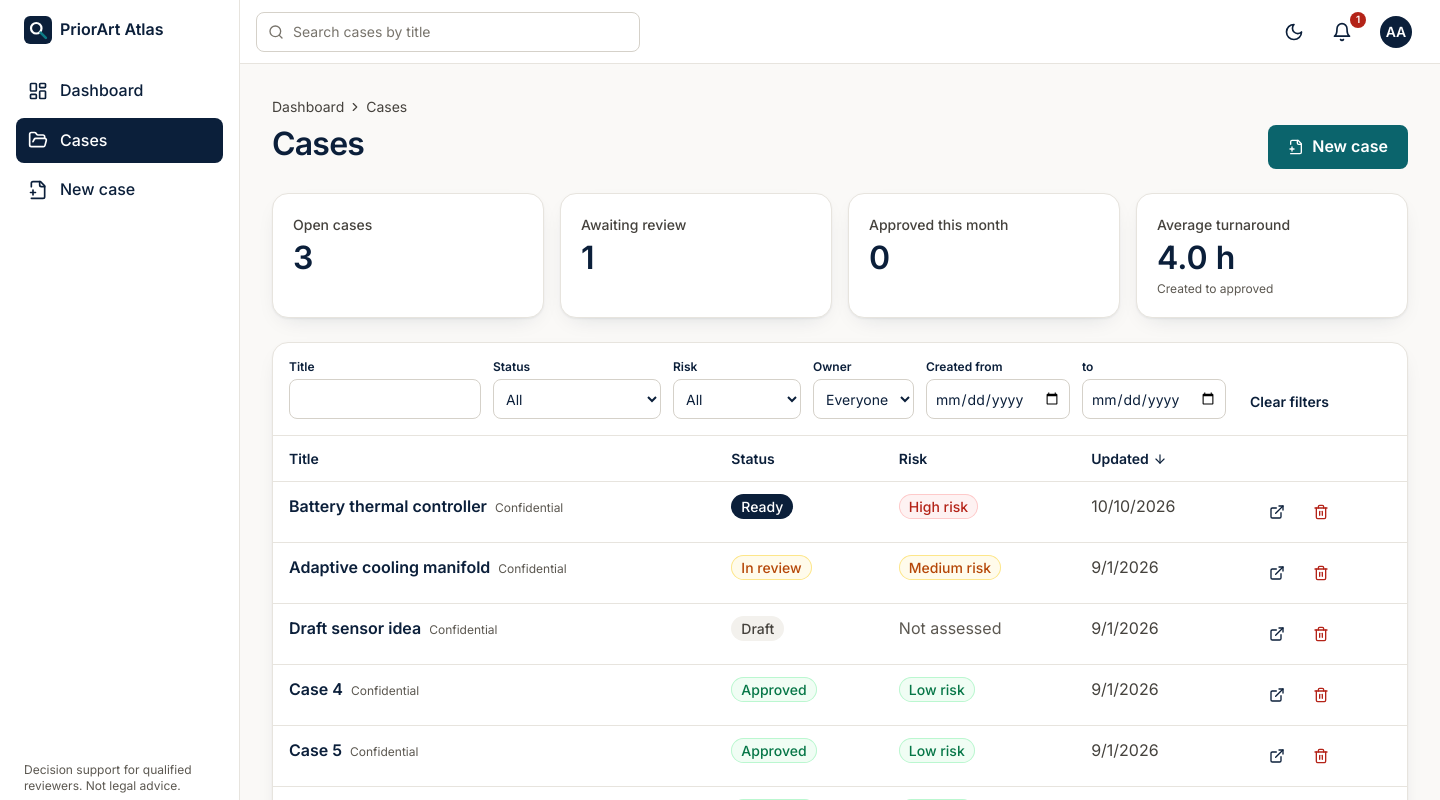
dashboard › sorts by a column and pages through the list
What coordinates should you click on to do the following:
click the button "Title"
I would click on:
 (304, 459)
Its box is x1=289 y1=448 x2=319 y2=469.
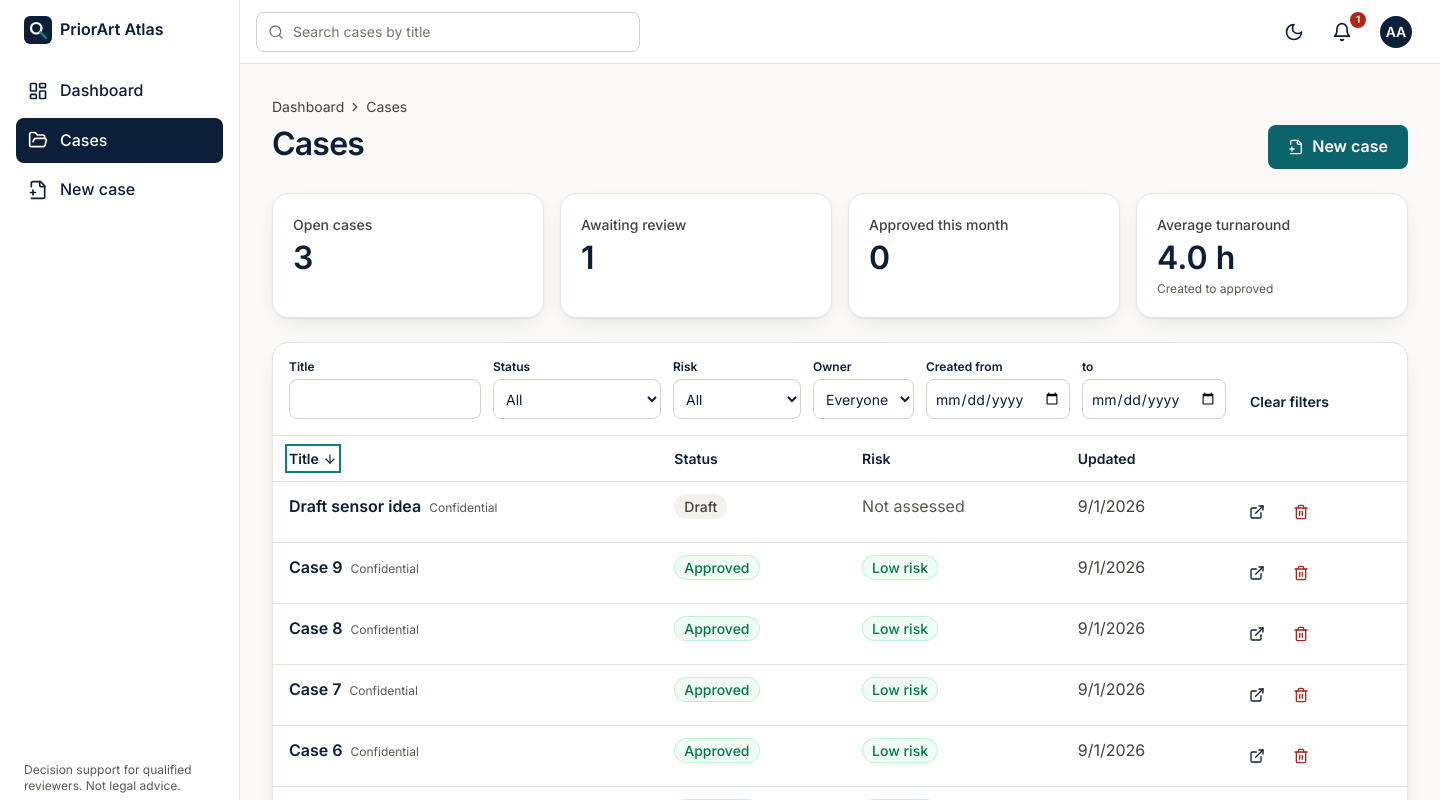
What coordinates should you click on to do the following:
click the button "Title"
I would click on:
 (313, 459)
Its box is x1=289 y1=448 x2=337 y2=469.
(page scrolled)
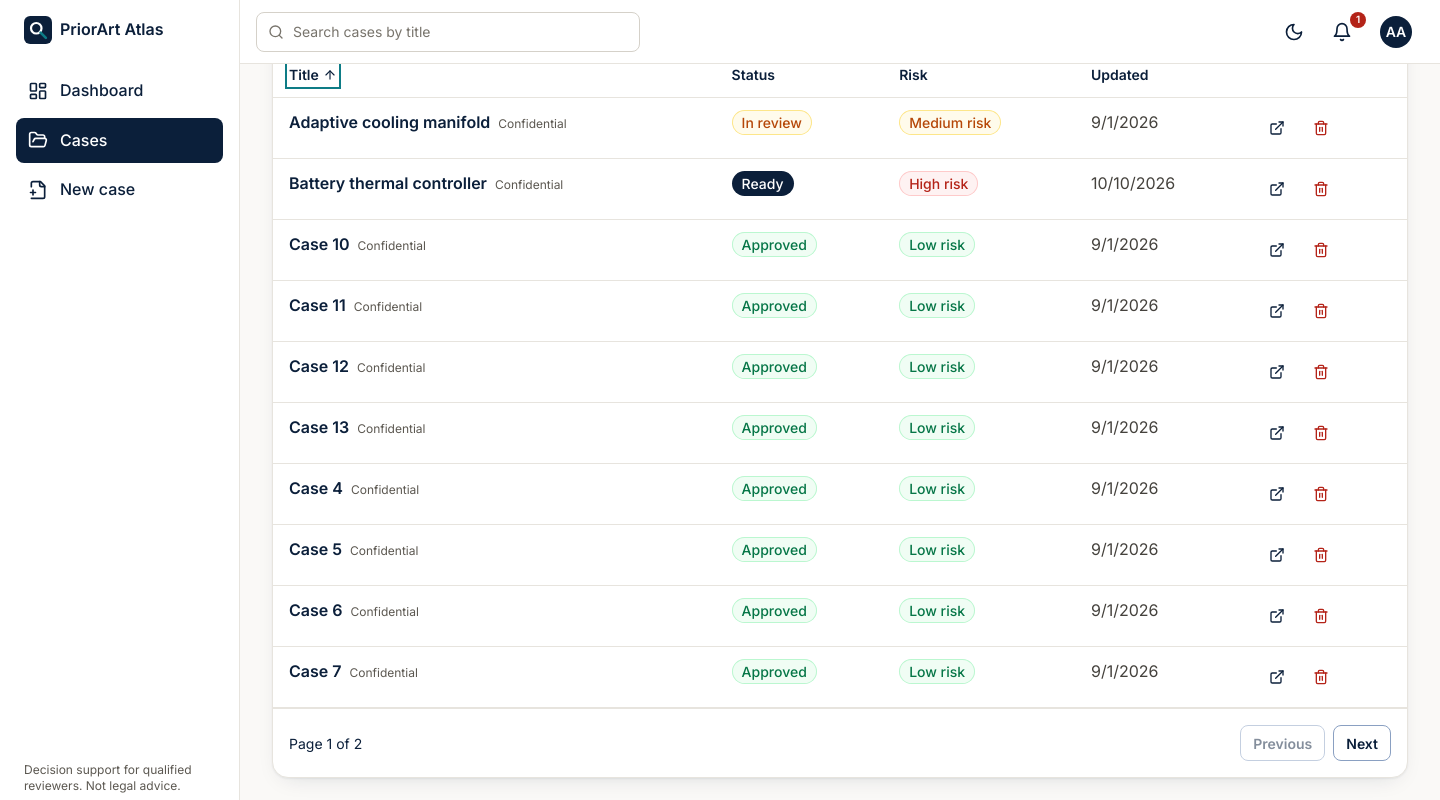
Expected: the row that starts with "Adaptive cooling manifold" is shown, x1=289 y1=112 x2=490 y2=132
What coordinates should you click on to do the following:
click the button "Next"
I would click on:
 (1362, 743)
Its box is x1=1333 y1=725 x2=1391 y2=761.
(page scrolled)
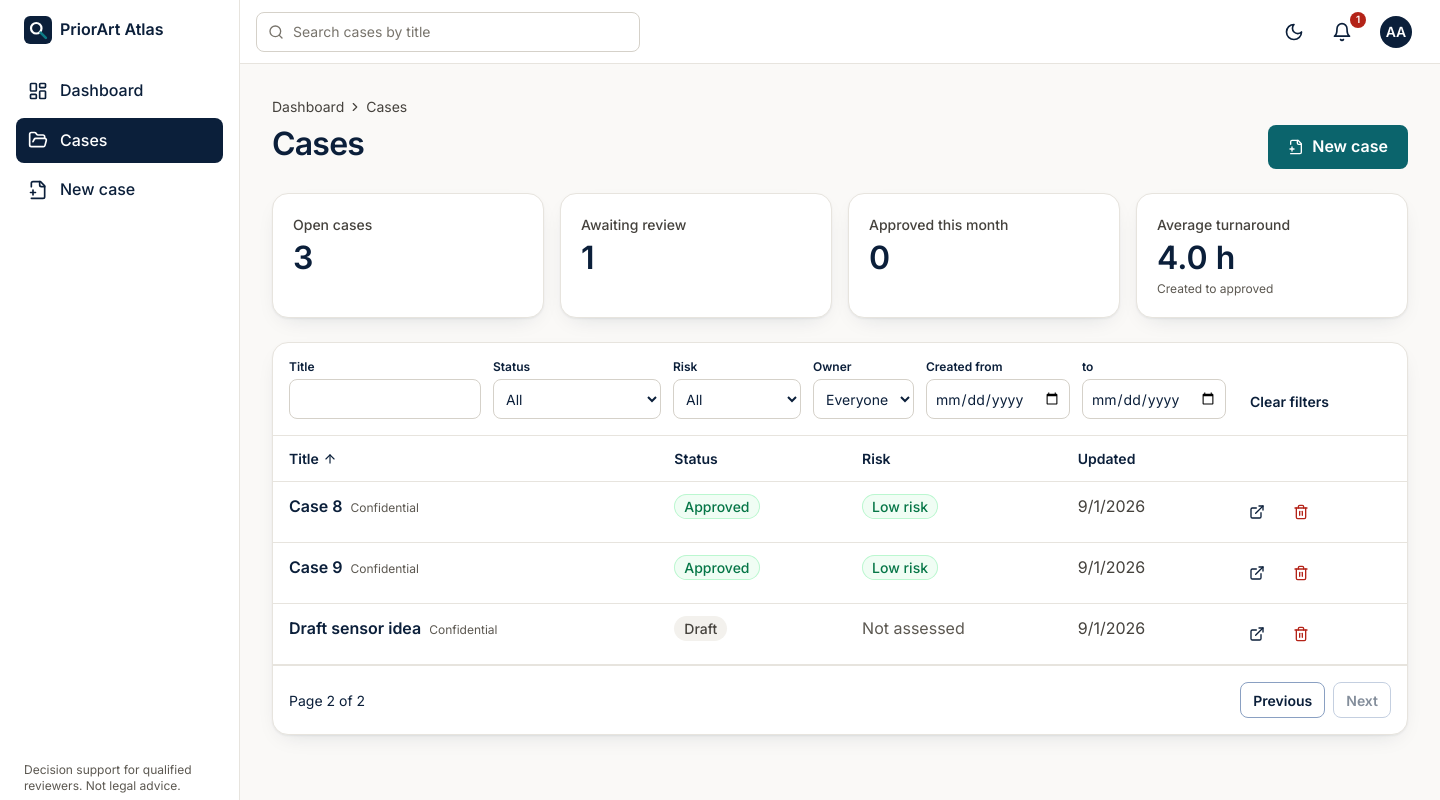
Expected: the text "Page 2 of 2" is shown, x1=289 y1=690 x2=365 y2=711
Expected: the button "Next" is disabled, x1=1333 y1=682 x2=1391 y2=718
